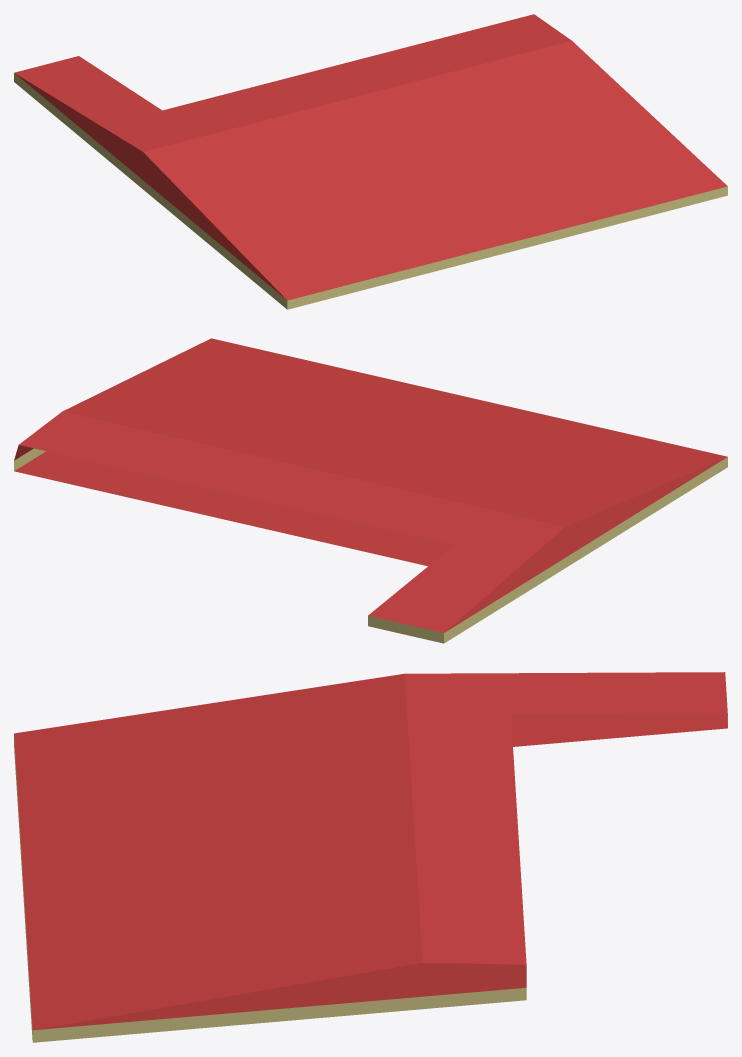
3 views of the same model, one above another, from view 1: azimuth 30°, elevation 25°; view 2: azimuth 150°, elevation 25°; view 3: azimuth 270°, elevation 25° (orthographic). The views are drawn at different scales.
Bounding box in the file's own units: 5.21 × 5.16 × 0.573.
